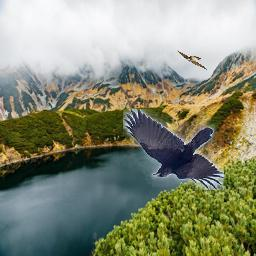Crow: (124, 110, 225, 191)
Swallow: (177, 50, 208, 70)
